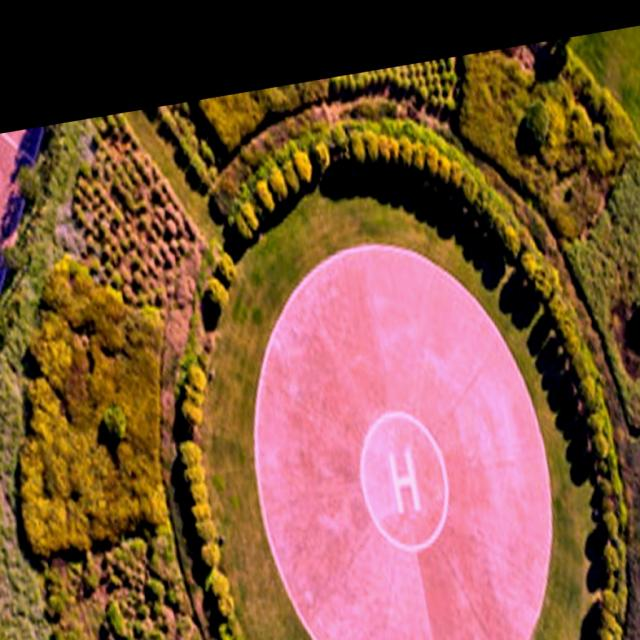helipad: (354, 406, 452, 554)
